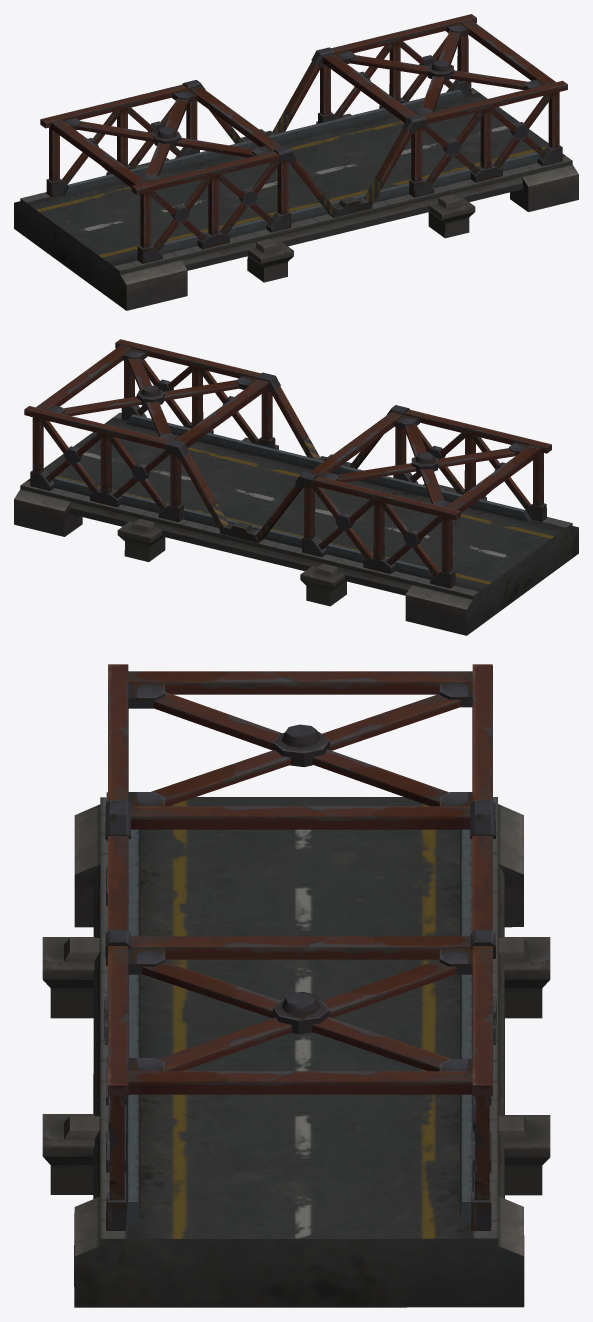
The model's file is WMBridge1.FBX.
3 views of the same model, one above another, from view 1: azimuth 30°, elevation 25°; view 2: azimuth 150°, elevation 25°; view 3: azimuth 270°, elevation 25° (orthographic). The views are drawn at different scales.
Parts seen in each view (by area): view 1: Object001; view 2: Object001; view 3: Object001.
Boxes of the visible parts, bbox=[...] form: Object001: bbox=[14, 14, 578, 310]; Object001: bbox=[14, 339, 578, 635]; Object001: bbox=[42, 664, 550, 1307].
Size of the model in its own units: 2.22 by 0.5417 by 1.08.
1 material, 1 textured.
